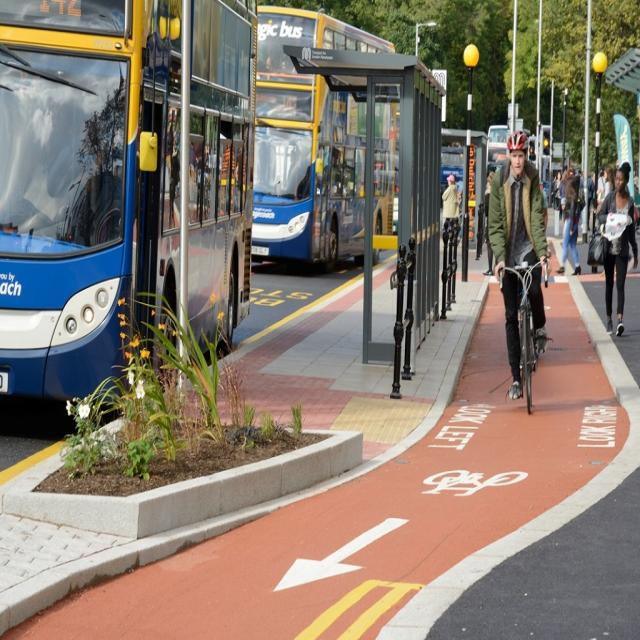body: (486, 126, 550, 402), (163, 106, 243, 232), (585, 158, 639, 342), (553, 166, 583, 279), (595, 163, 617, 279), (580, 164, 616, 224), (482, 170, 496, 276), (332, 152, 366, 192), (256, 49, 295, 75), (441, 174, 460, 223), (285, 140, 301, 190), (553, 166, 562, 215), (634, 170, 640, 234), (562, 168, 578, 175), (444, 154, 456, 162)
